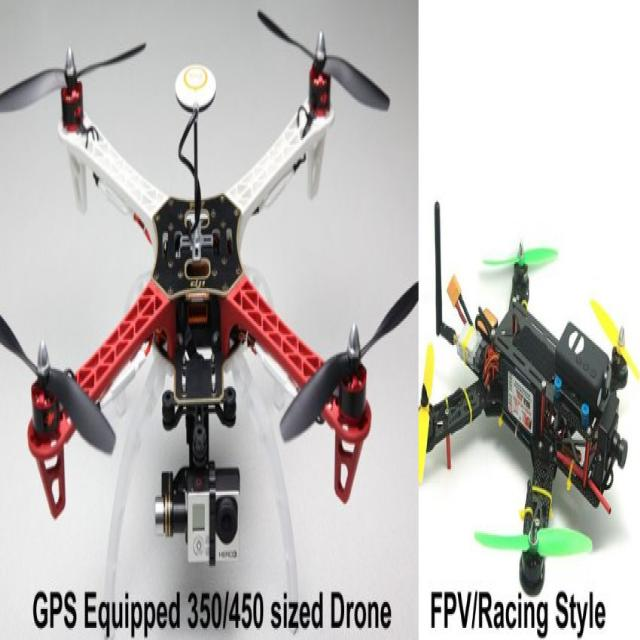drone: (1, 0, 410, 578), (424, 217, 640, 588)
